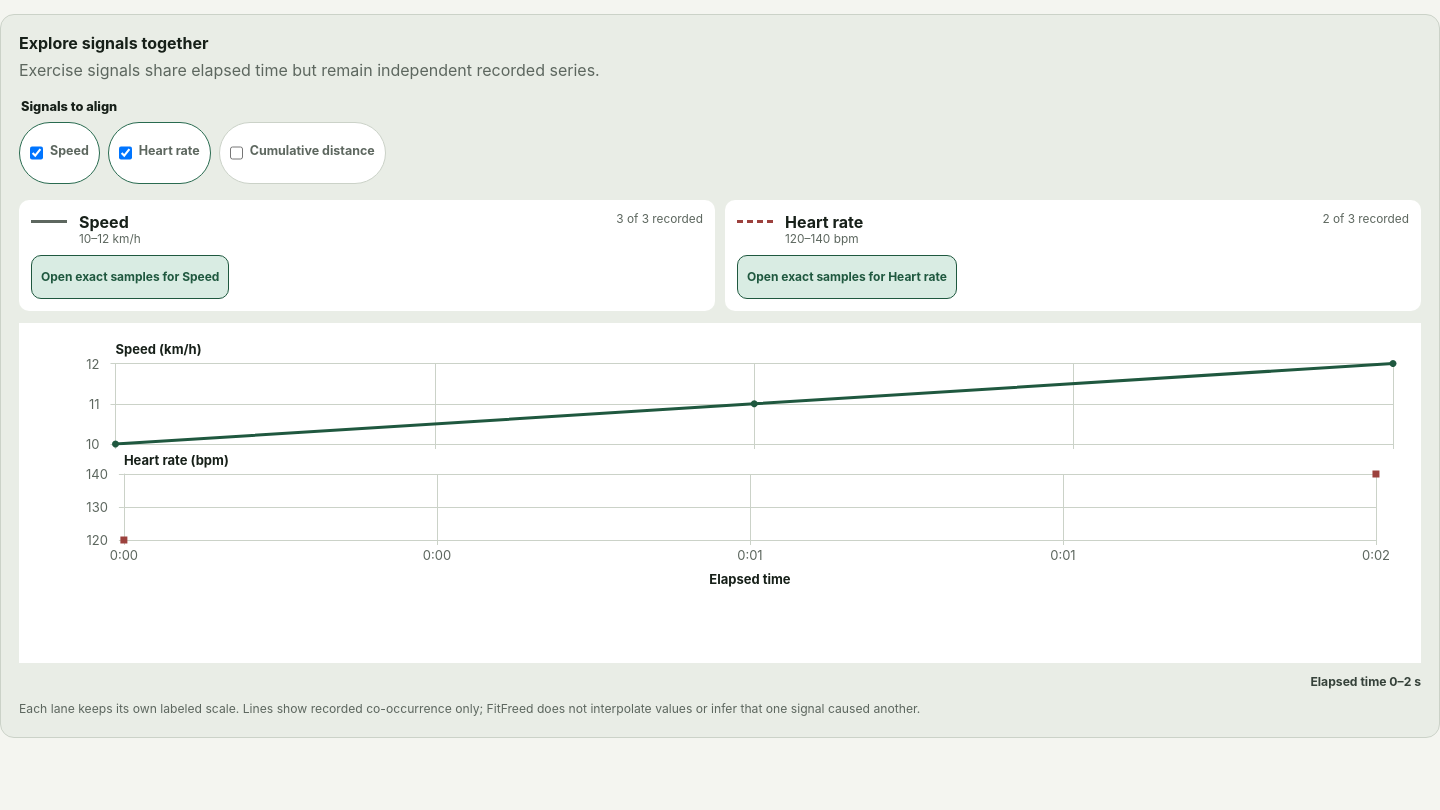
TrainingCrossSignalPanel › explains cumulative distance only when the person selects it
Click the checkbox labelled "Cumulative distance" at (236, 153), box left=230, top=131, right=243, bottom=175
(page scrolled)
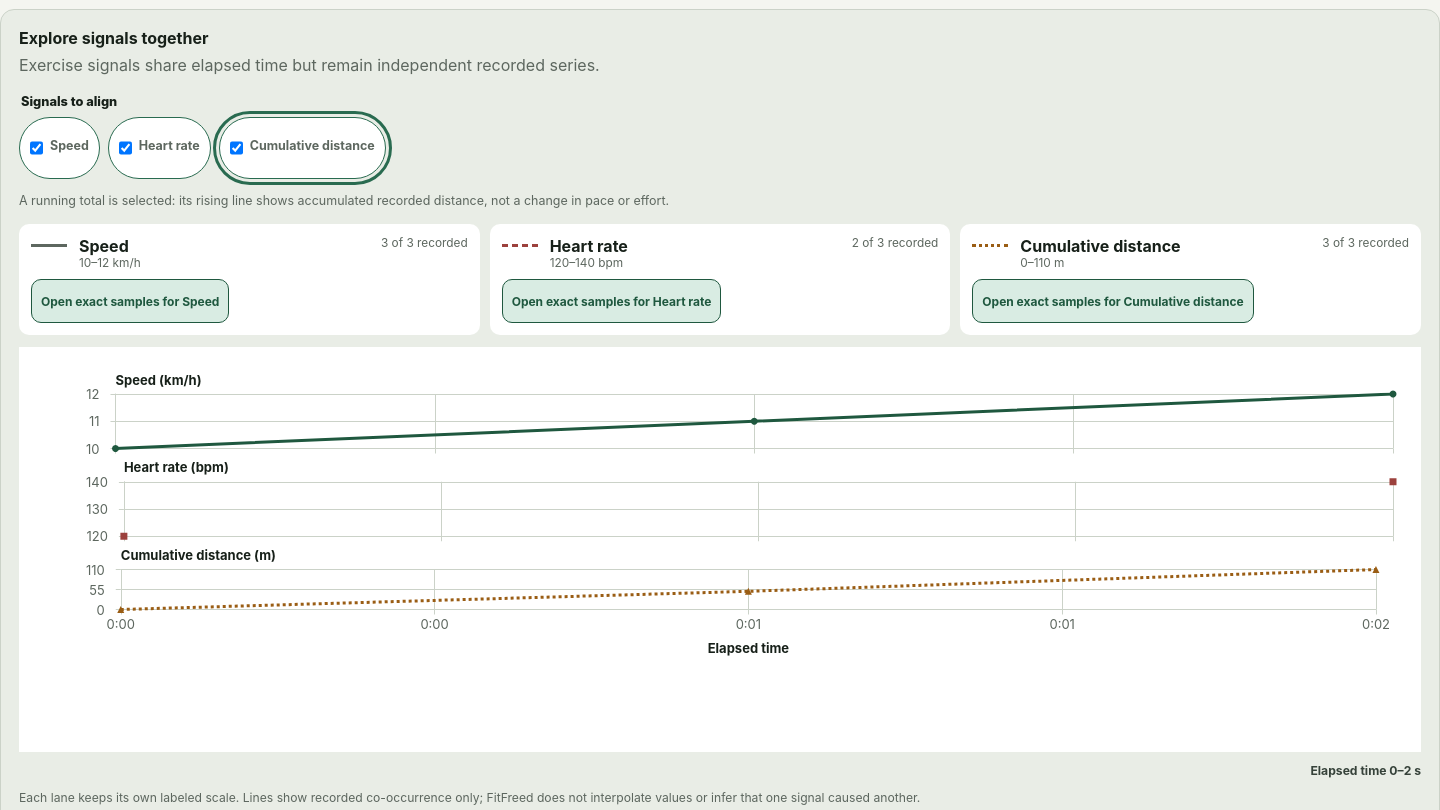
Check: the element named "Exercise 1 · Exercise signals · Explore signals together" shows "A running total is selected: its rising line shows accumulated recorded distance", box left=19, top=193, right=669, bottom=208
